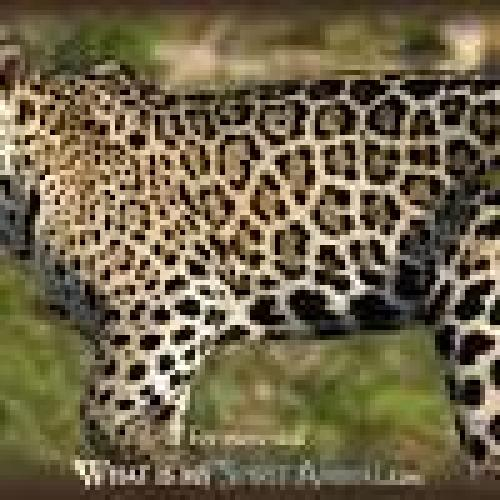jaguar_not-endangered: (0, 43, 500, 447)
